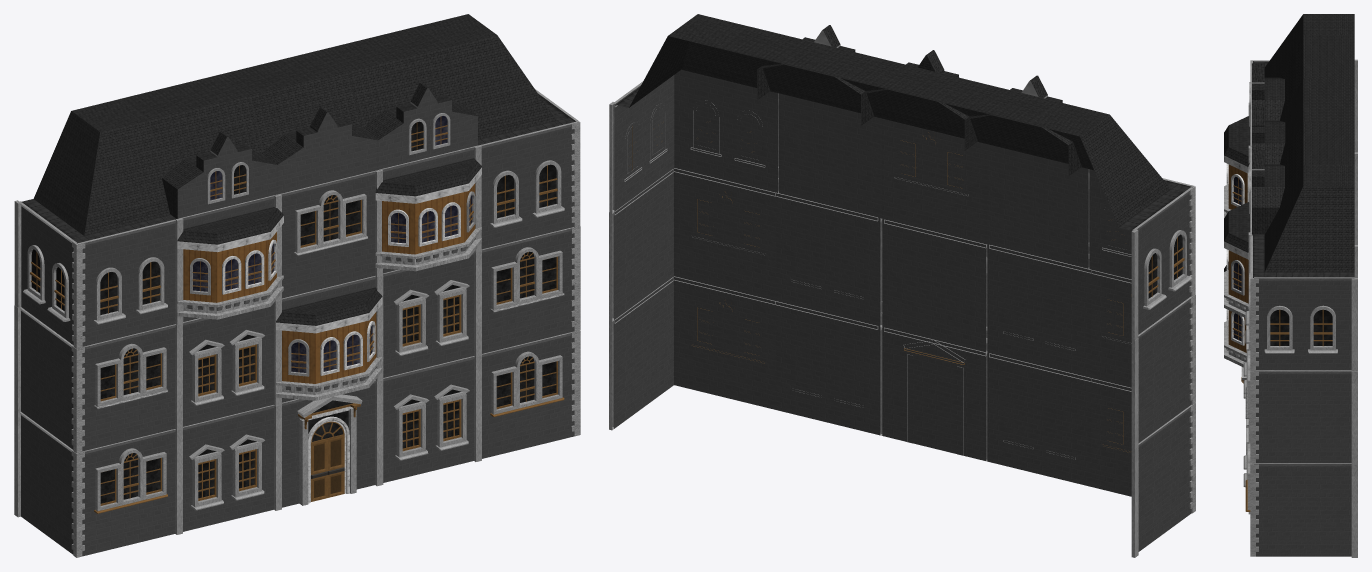
The model's file is Mansion.001_House.001c.fbx.
The picture shows the model from 3 angles, left to right: view 1: azimuth 30°, elevation 25°; view 2: azimuth 150°, elevation 25°; view 3: azimuth 270°, elevation 25°; orthographic projection. The views are drawn at different scales.
Visible parts, largest first — view 1: Mansion001_House_001; view 2: Mansion001_House_001; view 3: Mansion001_House_001.
Boxes of the visible parts, bbox=[...] form: Mansion001_House_001: bbox=[14, 14, 580, 557]; Mansion001_House_001: bbox=[609, 14, 1195, 557]; Mansion001_House_001: bbox=[1224, 14, 1357, 557].
Bounding box in the file's own units: 2047 × 1494 × 520.
